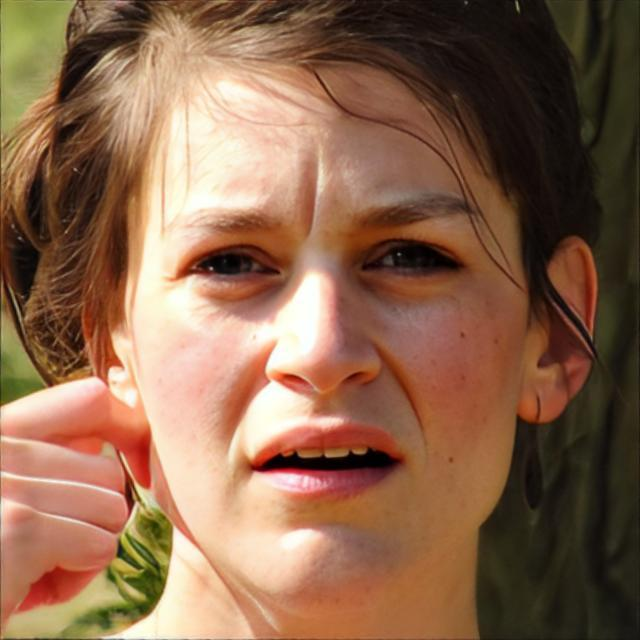disgust: (128, 47, 532, 602)
